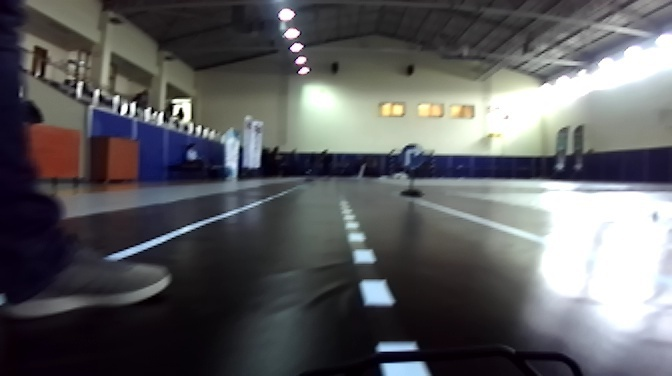saga_donus: (397, 142, 425, 171)
